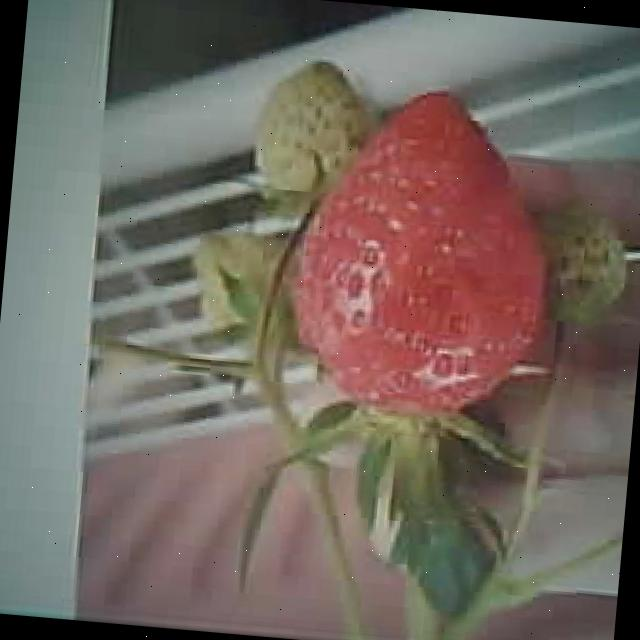strawberry: (282, 80, 560, 428), (246, 58, 366, 220), (539, 206, 627, 330)
